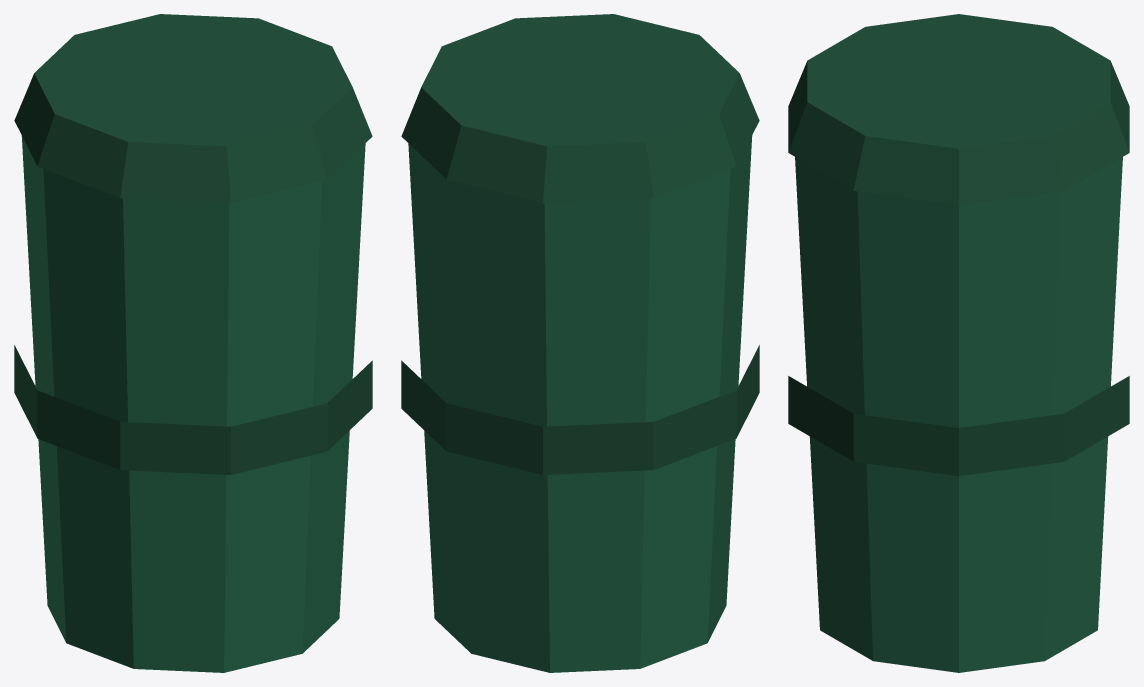
File: prop_trashbin_01.glb
3 views of the same model, side by side, from view 1: azimuth 30°, elevation 25°; view 2: azimuth 150°, elevation 25°; view 3: azimuth 270°, elevation 25° (orthographic).
Visible parts, largest first — view 1: prop_trashbin_01; view 2: prop_trashbin_01; view 3: prop_trashbin_01.
Part boxes in pixels (box(x1,y1,x2,y2)): prop_trashbin_01: box(14, 14, 372, 672); prop_trashbin_01: box(401, 14, 759, 672); prop_trashbin_01: box(788, 14, 1129, 672).
Bounding box in the file's own units: 0.54 × 0.88 × 0.5135.
